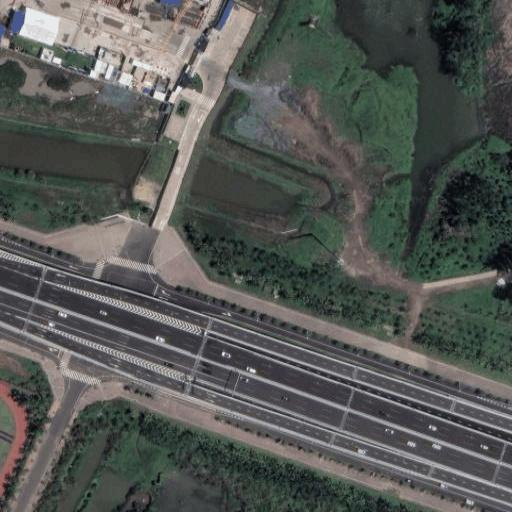building: (20, 8, 61, 44), (215, 1, 237, 33), (91, 60, 119, 82), (152, 74, 171, 101), (99, 47, 124, 67), (129, 57, 153, 72), (160, 0, 186, 13), (9, 13, 25, 33), (119, 73, 135, 86), (135, 67, 148, 81), (39, 49, 52, 61), (199, 38, 208, 50), (181, 77, 191, 87), (145, 75, 156, 81), (53, 58, 63, 64)
